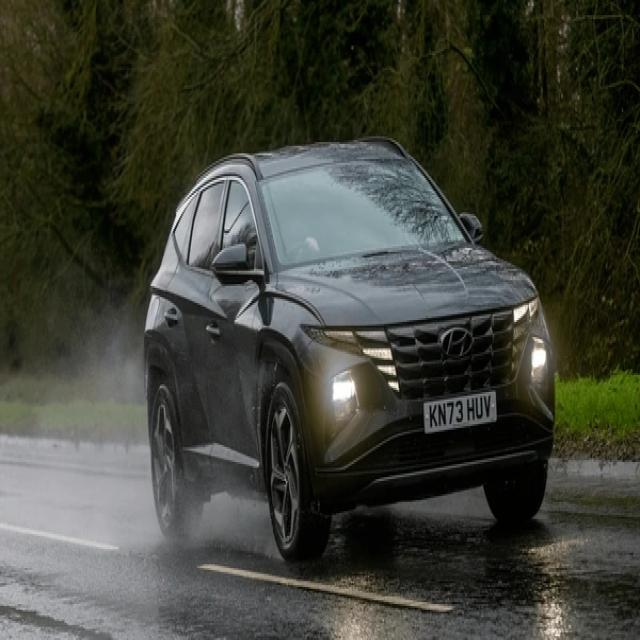hyundai: (439, 325, 474, 364)
